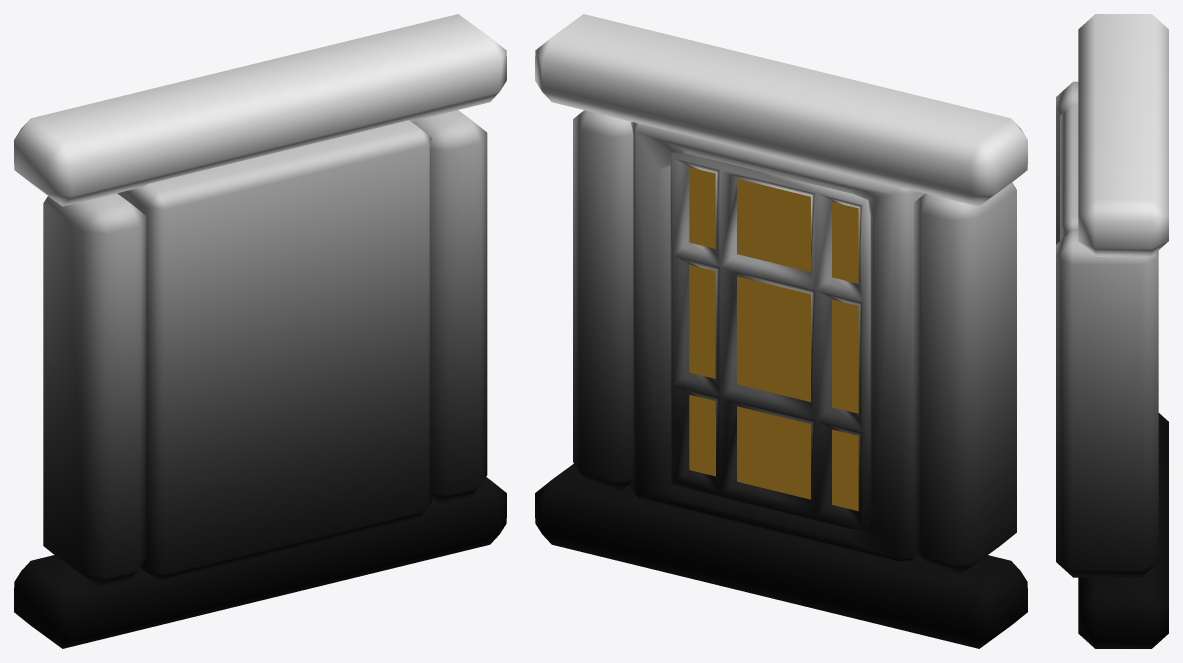
Rendered from SM_Brick_Window_01.fbx.
The picture shows the model from 3 angles, left to right: view 1: azimuth 30°, elevation 25°; view 2: azimuth 150°, elevation 25°; view 3: azimuth 270°, elevation 25°; orthographic projection. The views are drawn at different scales.
Parts seen in each view (by area): view 1: SM_Brick_Window_01; view 2: SM_Brick_Window_01; view 3: SM_Brick_Window_01.
Part boxes in pixels (x1,y1,x2,y2): SM_Brick_Window_01: (14, 14, 506, 648); SM_Brick_Window_01: (535, 14, 1027, 648); SM_Brick_Window_01: (1056, 14, 1168, 648).
Size of the model in its own units: 0.4 by 0.4209 by 0.0956.
